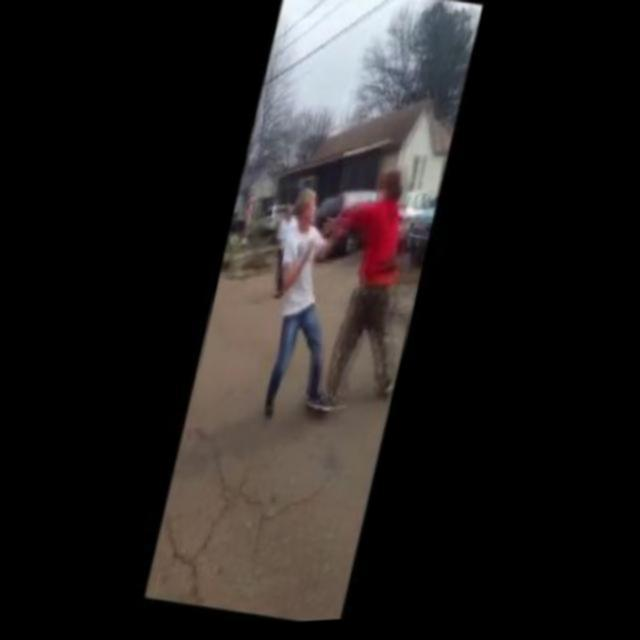fight: (255, 152, 429, 428)
